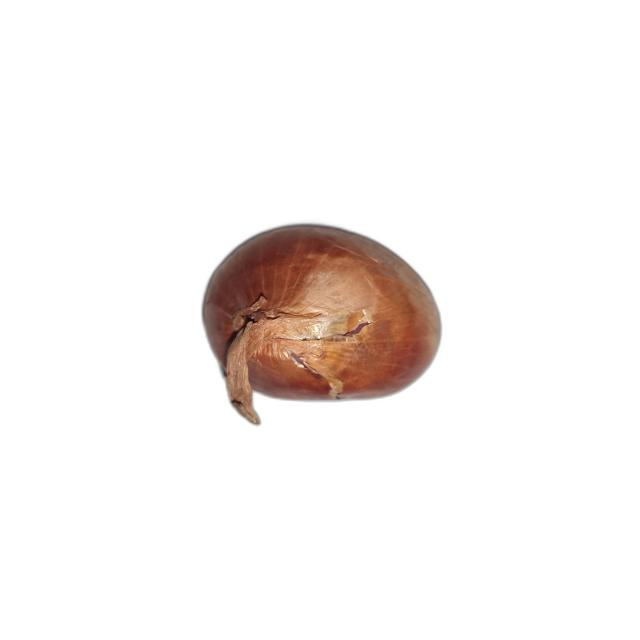onion: (202, 223, 443, 425)
